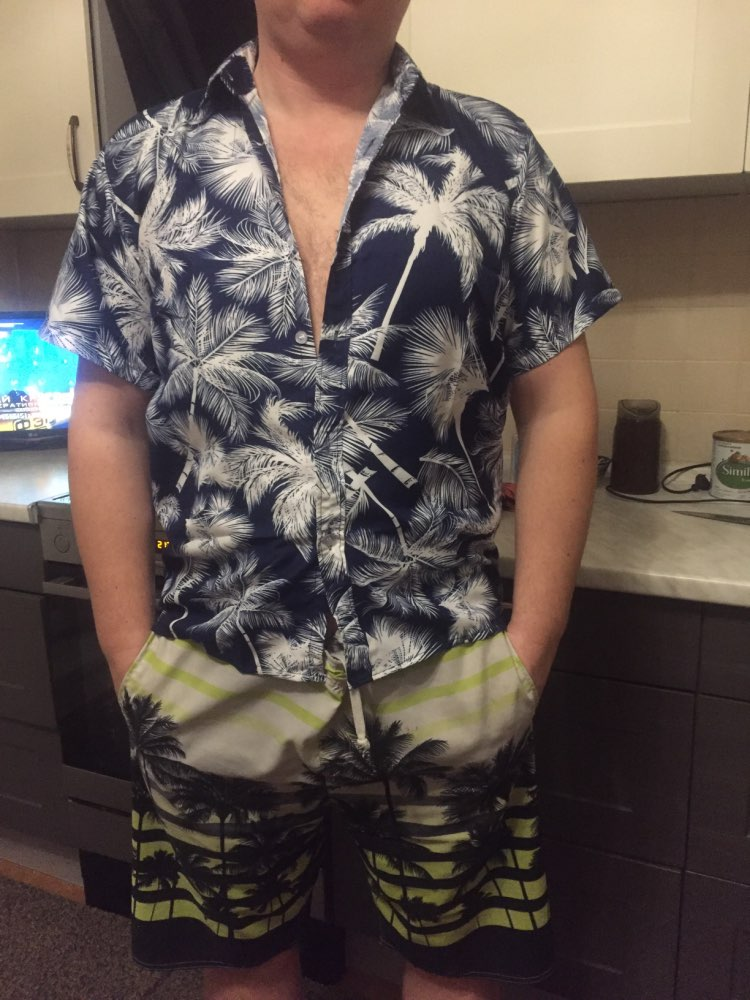shirts: (77, 45, 607, 640)
